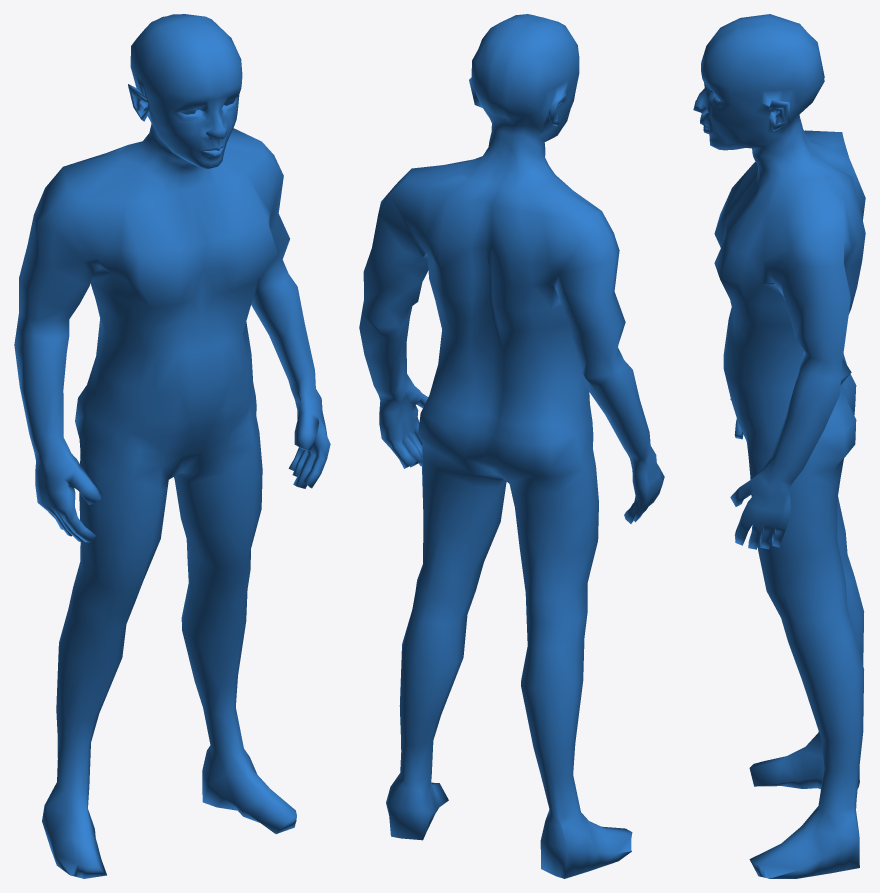
File: enemy.obj
The picture shows the model from 3 angles, left to right: view 1: azimuth 30°, elevation 25°; view 2: azimuth 150°, elevation 25°; view 3: azimuth 270°, elevation 25°; orthographic projection. The views are drawn at different scales.
Parts seen in each view (by area): view 1: body; view 2: body; view 3: body.
Part boxes in pixels (bbox=[...]): body: bbox=[14, 14, 330, 878]; body: bbox=[359, 14, 664, 878]; body: bbox=[693, 14, 865, 878].
Size of the model in its own units: 0.4656 by 1.32 by 0.2564.
